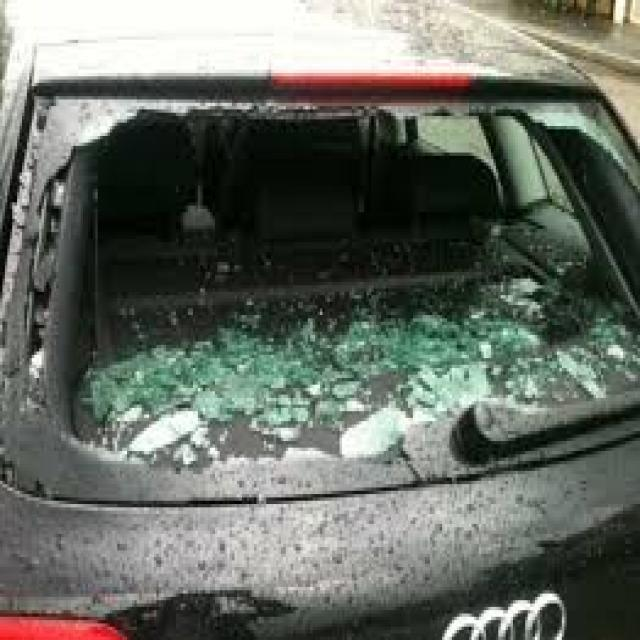damaged-rear-window: (16, 89, 640, 473)
